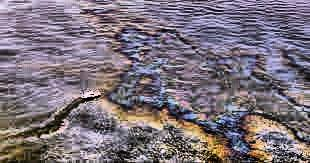rainbow: (111, 19, 310, 163)
